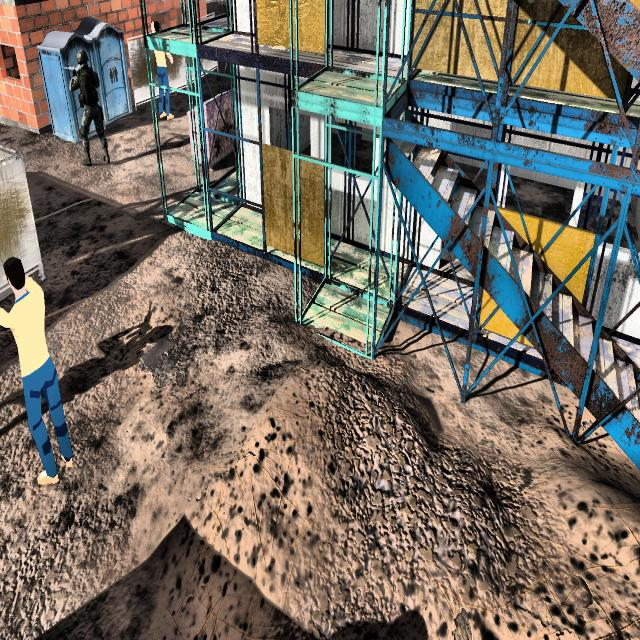bad: (62, 43, 117, 177)
good: (0, 235, 79, 496), (145, 14, 179, 132)
